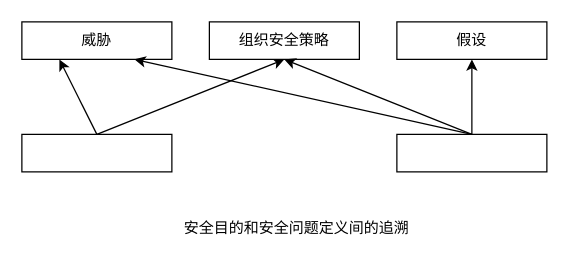
The diagram is 569 pixels wide and 269 high, and some of its shapes have lost their labels. The centre of each missing label's shape, as x and y in pixels:
TOE 安全目的: (x=96, y=152)
运行环境 安全目的: (x=471, y=152)
